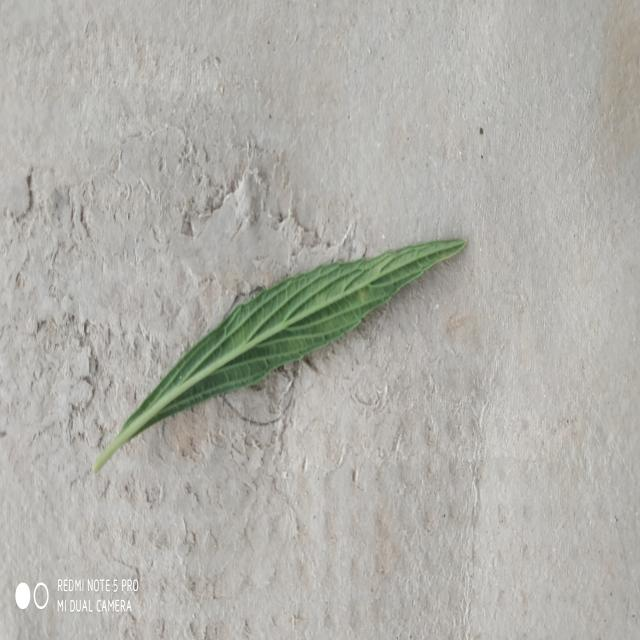thambe: (94, 240, 465, 473)
